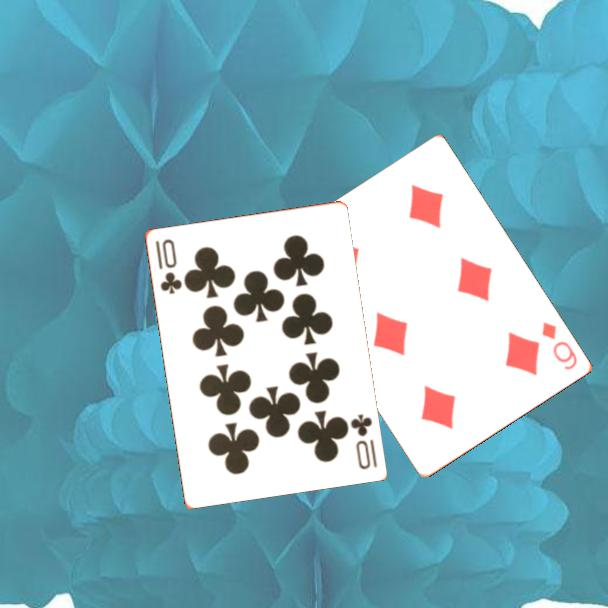c10: (347, 410, 380, 472), (152, 235, 184, 297)
d06: (539, 318, 581, 373)
